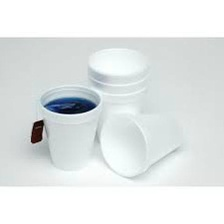paper_cup: (93, 105, 190, 181), (28, 80, 104, 176), (82, 44, 153, 146)
